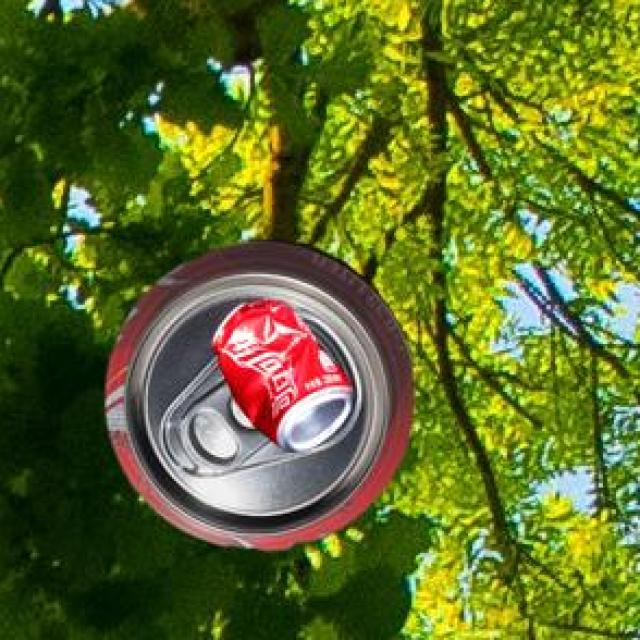logam: (103, 236, 410, 547), (210, 295, 352, 450)
